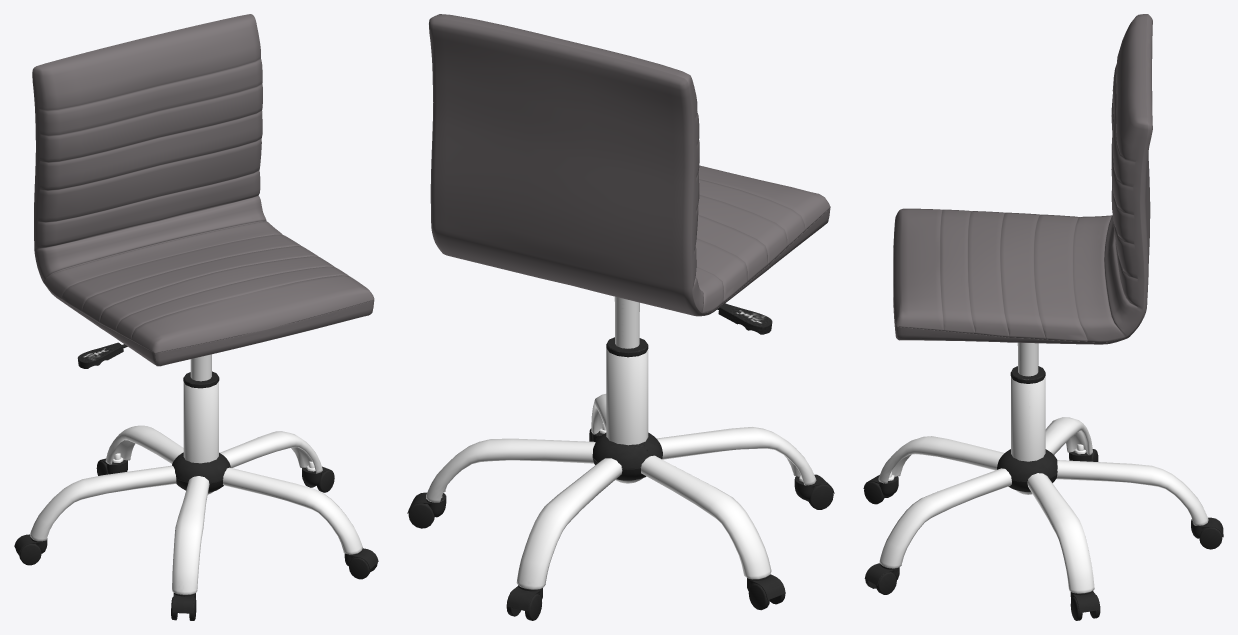
File: B07MNYTYR4.glb
3 views of the same model, side by side, from view 1: azimuth 30°, elevation 25°; view 2: azimuth 150°, elevation 25°; view 3: azimuth 270°, elevation 25° (orthographic). The views are drawn at different scales.
Visible parts, largest first — view 1: B07MNYTYR4; view 2: B07MNYTYR4; view 3: B07MNYTYR4.
Part boxes in pixels (x1,y1,x2,y2): B07MNYTYR4: (14, 14, 378, 620); B07MNYTYR4: (407, 14, 834, 620); B07MNYTYR4: (863, 14, 1223, 620).
Size of the model in its own units: 0.5564 by 0.78 by 0.5302.
Materials: 1 (1 with a texture image).
